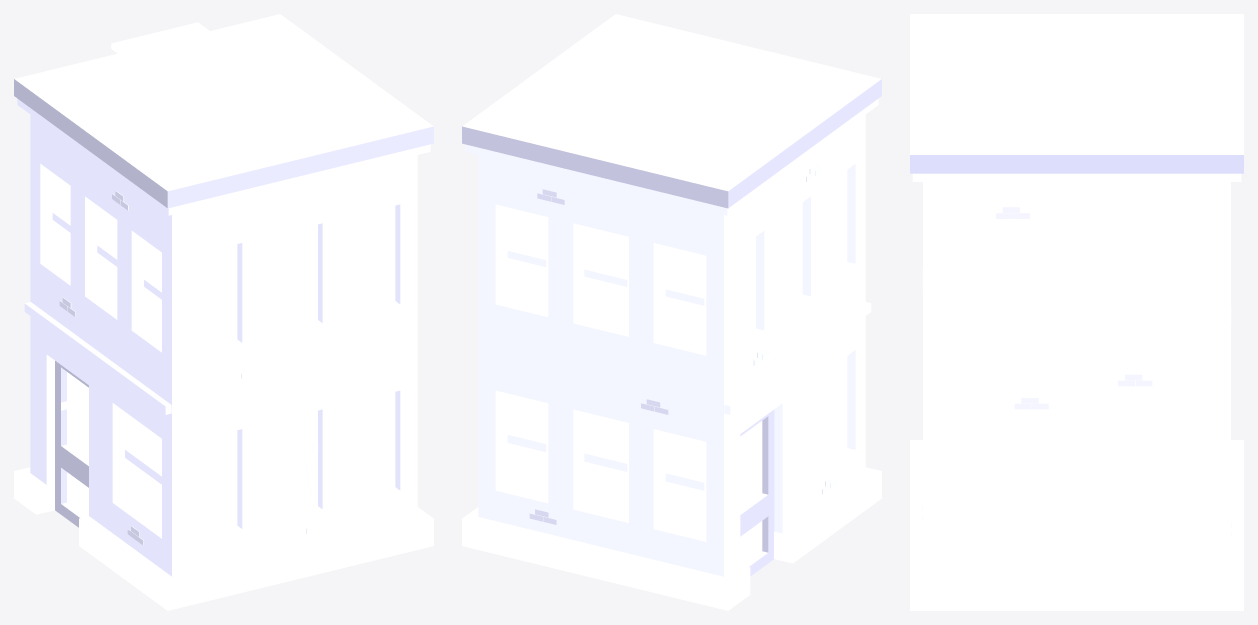
The model's file is one-floor-building.gltf.
The picture shows the model from 3 angles, left to right: view 1: azimuth 30°, elevation 25°; view 2: azimuth 150°, elevation 25°; view 3: azimuth 270°, elevation 25°; orthographic projection. The views are drawn at different scales.
Visible parts, largest first — view 1: Building, Roof.2, Windows, Window Edges, Base, AC Unit.1, Roof.1, Door, Cube.2, AC Unit; view 2: Building, Roof.2, Windows, Window Edges, Base, AC Unit.1, Roof.1, Door, Cube.2, AC Unit; view 3: Building, Roof.2, Windows, Base, Window Edges, AC Unit.1, Roof.1, AC Unit.
Part boxes in pixels (x1=…): Building: x1=30, y1=115, x2=417, y2=576; Roof.2: x1=14, y1=14, x2=433, y2=208; Windows: x1=62, y1=180, x2=382, y2=523; Window Edges: x1=48, y1=170, x2=395, y2=536; Base: x1=14, y1=467, x2=433, y2=610; AC Unit.1: x1=111, y1=22, x2=235, y2=76; Roof.1: x1=17, y1=98, x2=430, y2=215; Door: x1=55, y1=361, x2=88, y2=527; Cube.2: x1=24, y1=302, x2=171, y2=414; AC Unit: x1=118, y1=54, x2=228, y2=91; Building: x1=478, y1=115, x2=865, y2=576; Roof.2: x1=462, y1=14, x2=881, y2=208; Windows: x1=513, y1=180, x2=833, y2=565; Window Edges: x1=500, y1=170, x2=847, y2=536; Base: x1=462, y1=467, x2=881, y2=610; AC Unit.1: x1=569, y1=89, x2=693, y2=143; Roof.1: x1=465, y1=98, x2=878, y2=215; Door: x1=740, y1=409, x2=774, y2=576; Cube.2: x1=724, y1=302, x2=871, y2=414; AC Unit: x1=576, y1=121, x2=685, y2=158; Building: x1=923, y1=182, x2=1230, y2=575; Roof.2: x1=910, y1=14, x2=1243, y2=173; Windows: x1=953, y1=235, x2=1200, y2=525; Base: x1=910, y1=440, x2=1243, y2=610; Window Edges: x1=945, y1=231, x2=1208, y2=538; AC Unit.1: x1=1135, y1=33, x2=1217, y2=85; Roof.1: x1=912, y1=173, x2=1241, y2=181; AC Unit: x1=1140, y1=85, x2=1211, y2=102.
Bounding box in the file's own units: 0.8125 × 1.29 × 0.8125.
